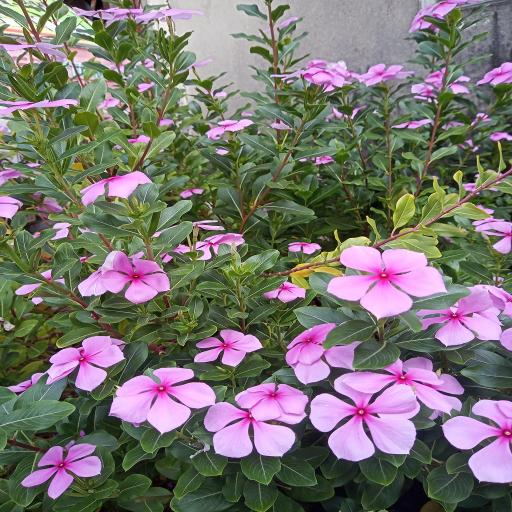Periwinkle: (304, 369, 426, 466), (322, 242, 452, 322), (104, 362, 222, 442), (13, 441, 107, 504), (90, 244, 182, 308), (41, 335, 128, 399), (188, 326, 265, 371)
